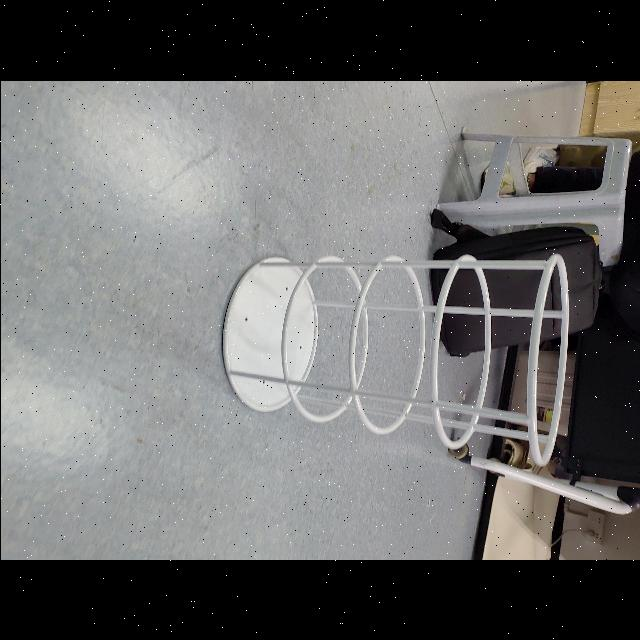S: (218, 248, 574, 470)
